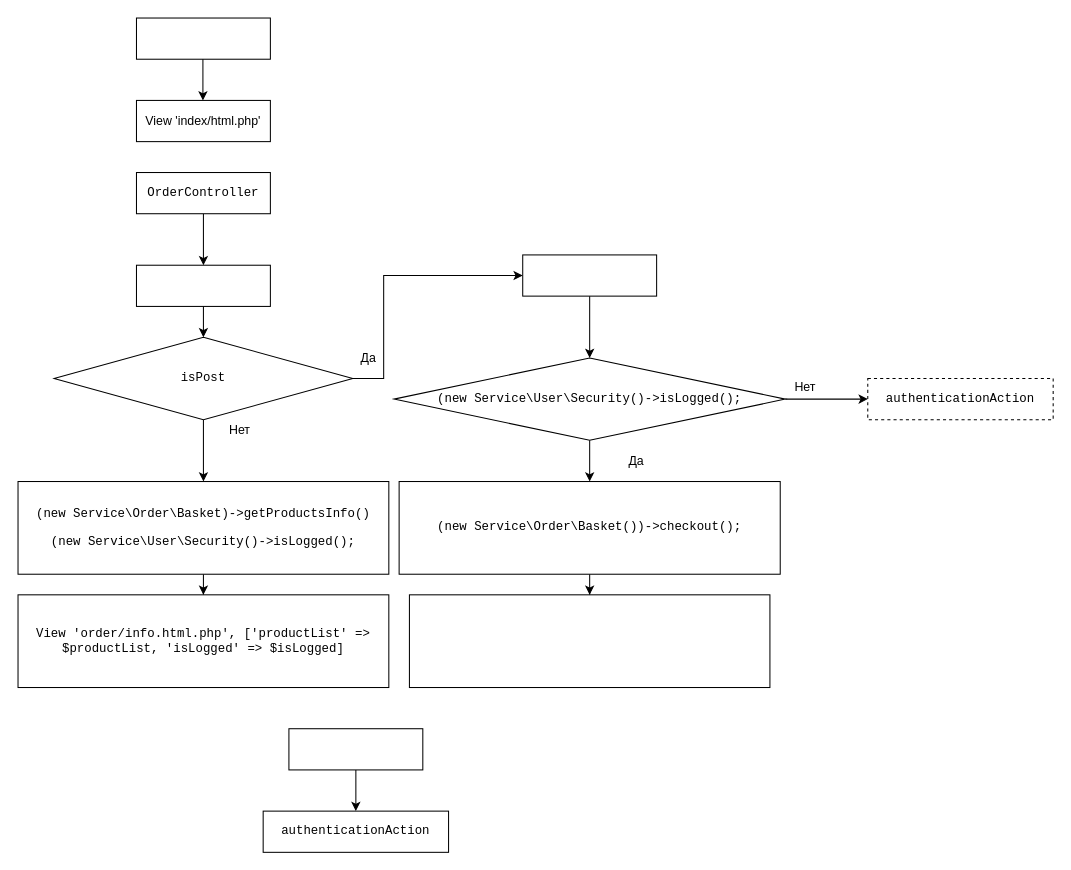
Image size: 1071x870. Some labels were removed from this diagram. The centre of each missing label's shape, as x and y in pixels:
"Controller Main" goes at [202,38].
"function checkout" goes at [589,275].
"function info" goes at [202,285].
"UserController" goes at [355,749].
"View 'order/checkout.html.php'" goes at [589,641].
